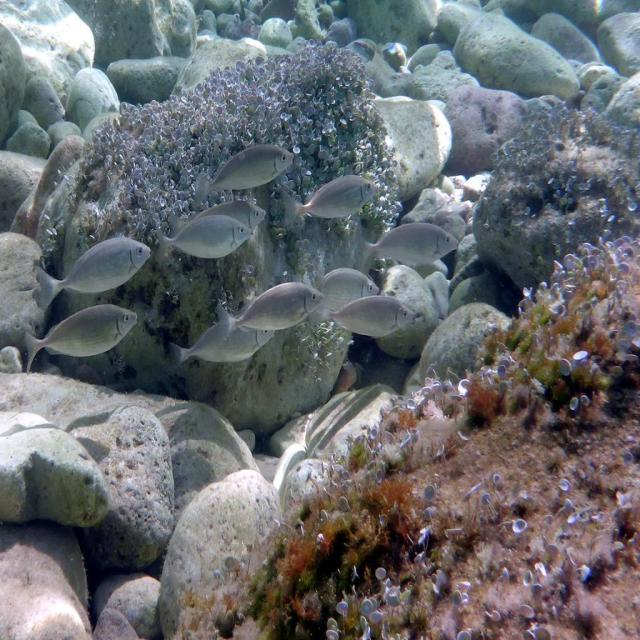Sokar Baligi: (19, 296, 144, 382), (30, 228, 156, 310), (186, 135, 300, 209)
